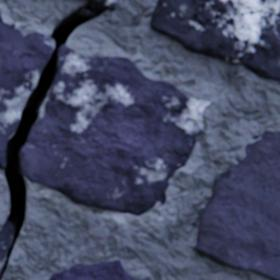brick: (195, 131, 279, 279), (150, 0, 279, 81), (49, 260, 145, 279), (0, 223, 9, 274), (87, 0, 115, 11)
broken_brick: (19, 45, 209, 215), (0, 16, 54, 169)
crack: (0, 1, 104, 279), (196, 14, 234, 25), (246, 11, 266, 14)
